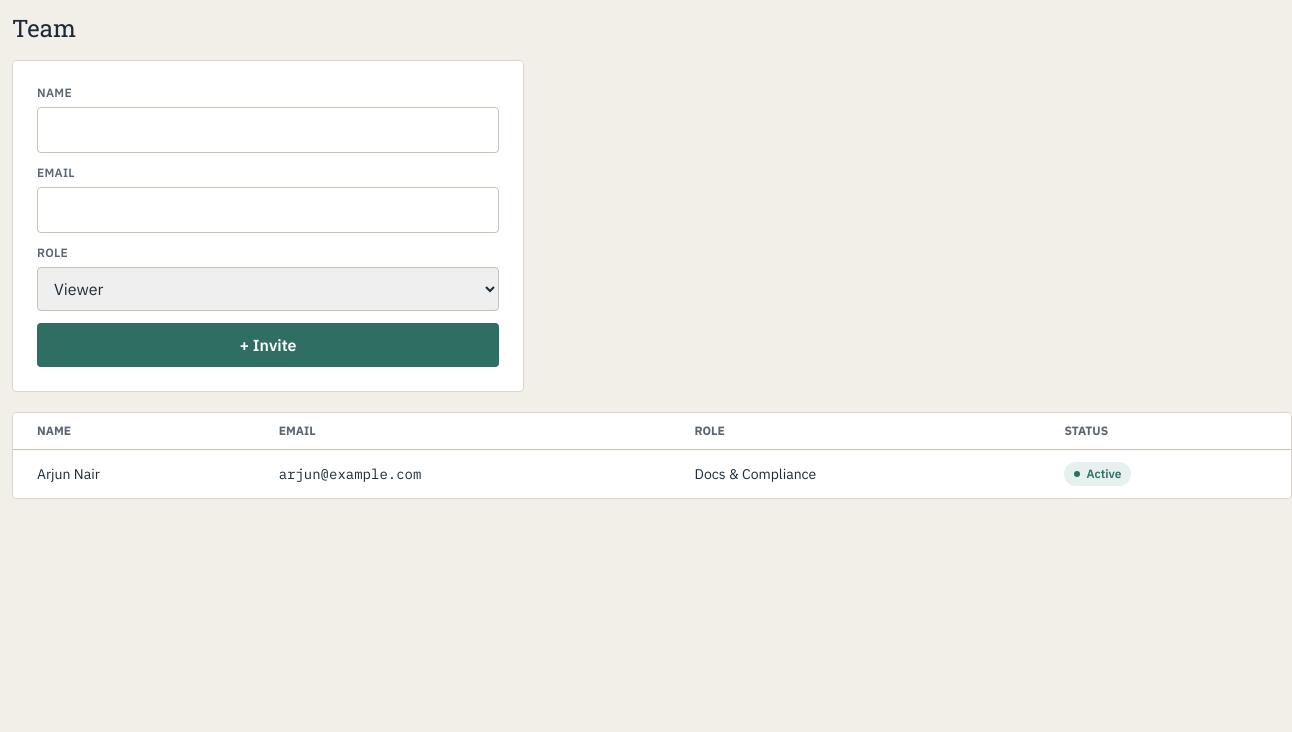
Scenario: TeamPage › shows a submit error and keeps the loaded team list when inviting fails
This screenshot has width=1292, height=732.
Expected: the text "Arjun Nair" is shown, [13,450,255,498]
Type "New Person" into the field labelled "Name" at (268, 130), box [37,107,499,153]
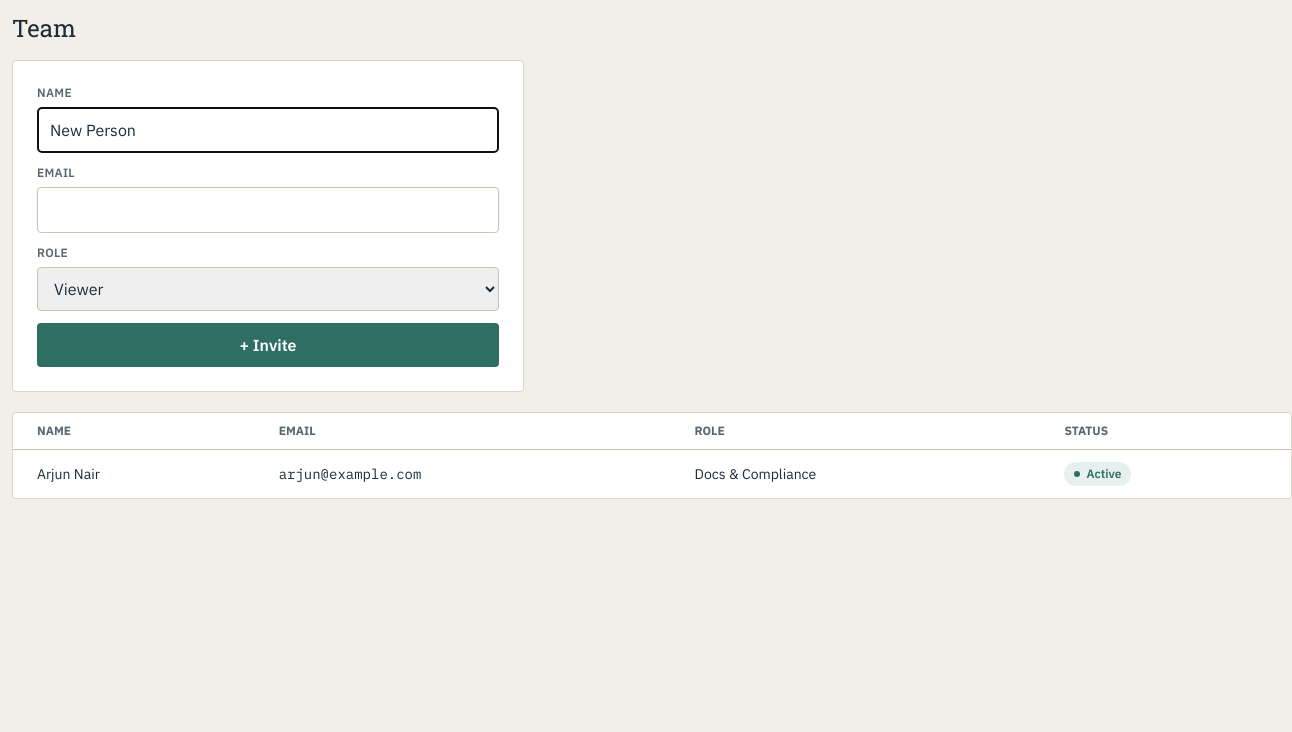
Type "new@example.com" into the field labelled "Email" at (268, 210), box [37,187,499,233]
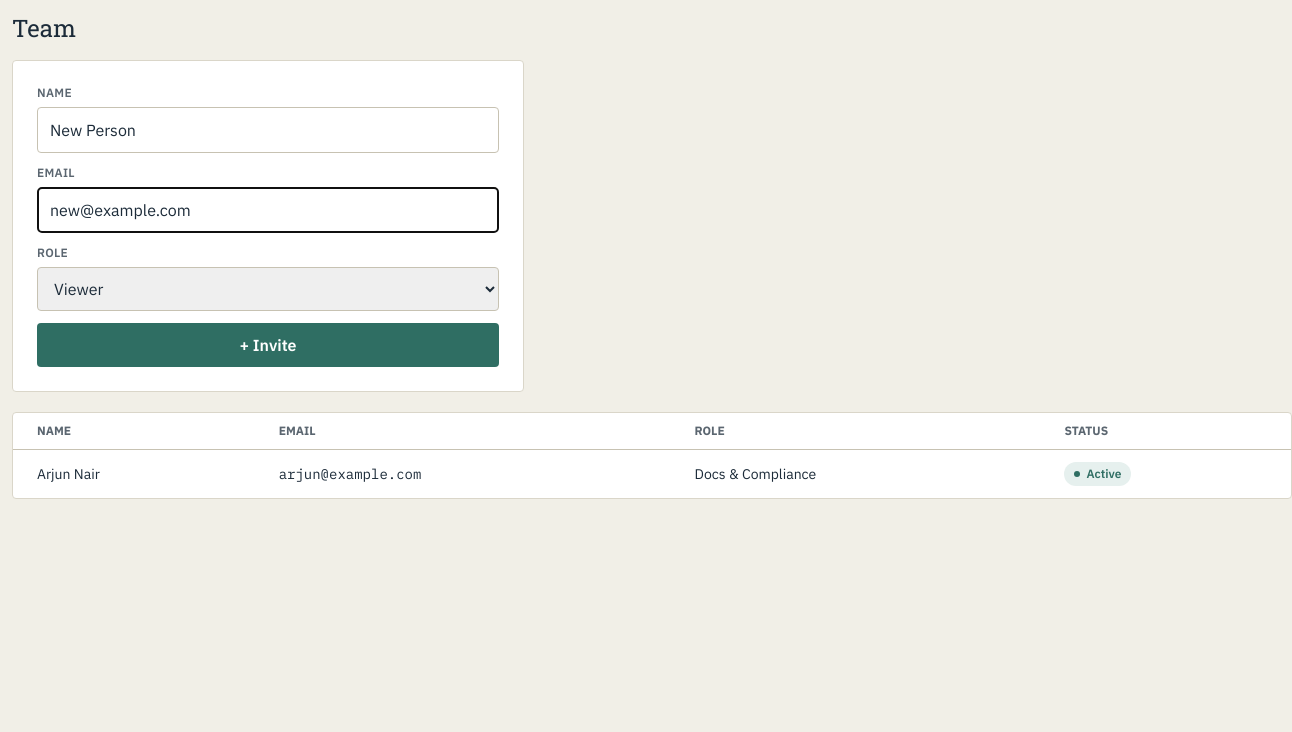
Click the button "+ Invite" at (268, 345), box [37,323,499,367]
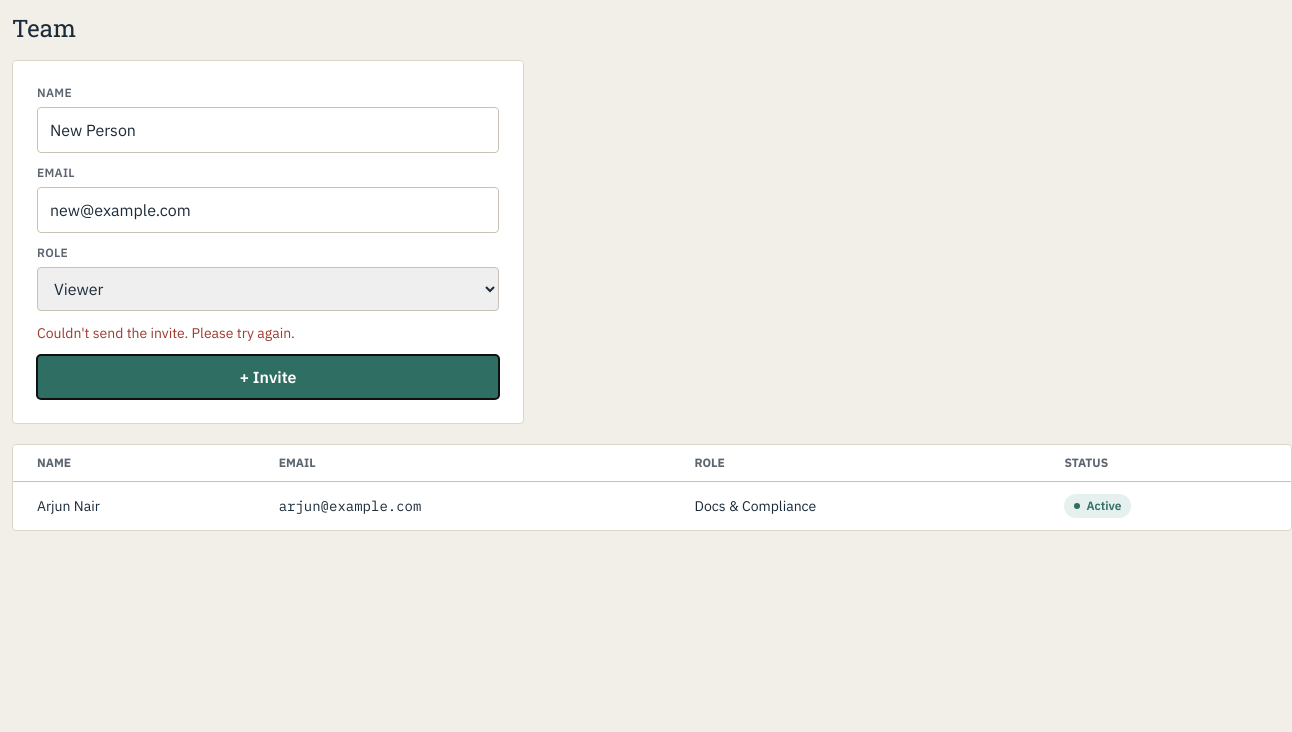
Expected: the text "Arjun Nair" is shown, [13,482,255,530]
Expected: the text "Couldn't send the invite. Please try again." is shown, [37,324,295,342]
